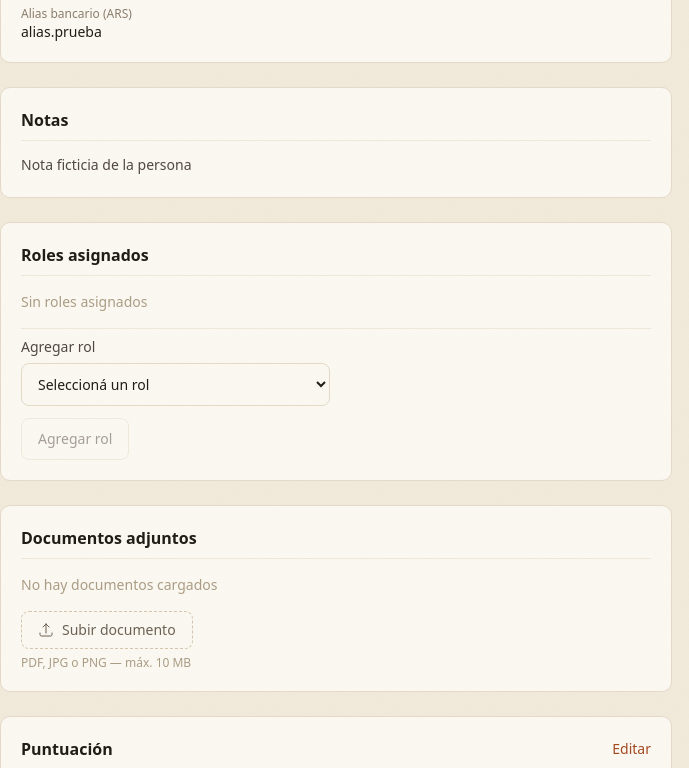
Test: PersonDetailPage › agrega un rol de propiedad
The image size is (689, 768).
(page scrolled)
Check: the button "Agregar rol" is disabled, box [21, 418, 129, 460]
Select "Propietario" in the dropdown labelled "Agregar rol" at [176, 384], box [21, 363, 330, 406]
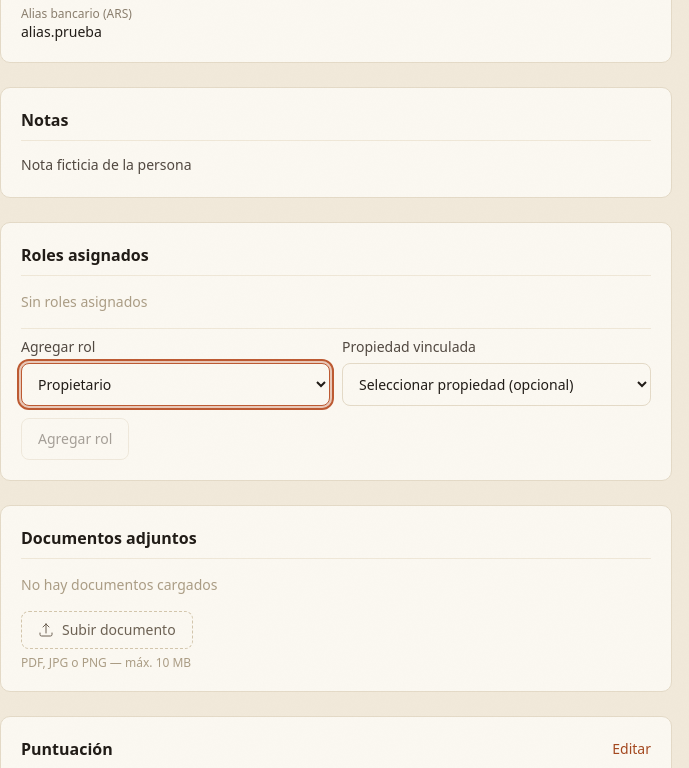
Select "Depto de prueba — Calle Falsa" in the dropdown labelled "Propiedad vinculada" at [496, 384], box [342, 363, 651, 406]
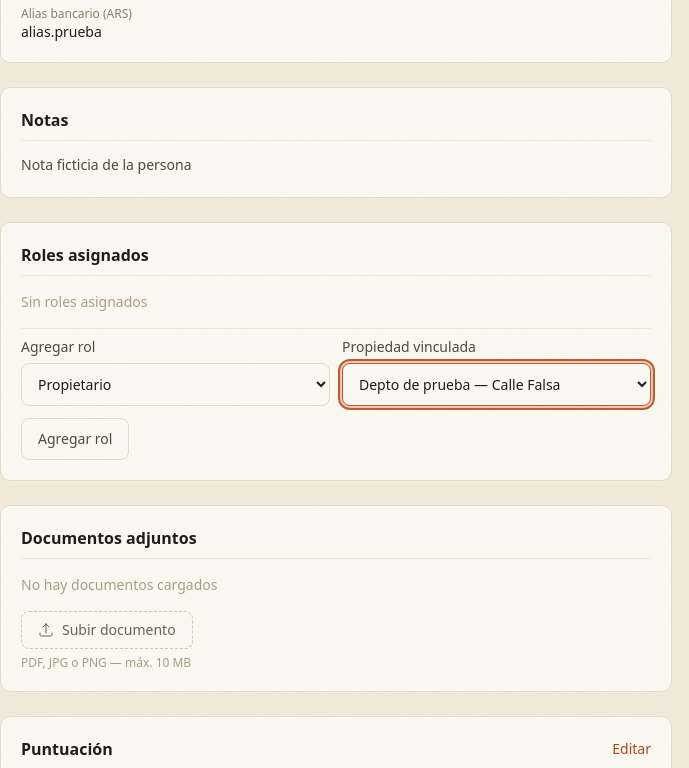
Click the button "Agregar rol".
click(75, 439)  # box [21, 418, 129, 460]
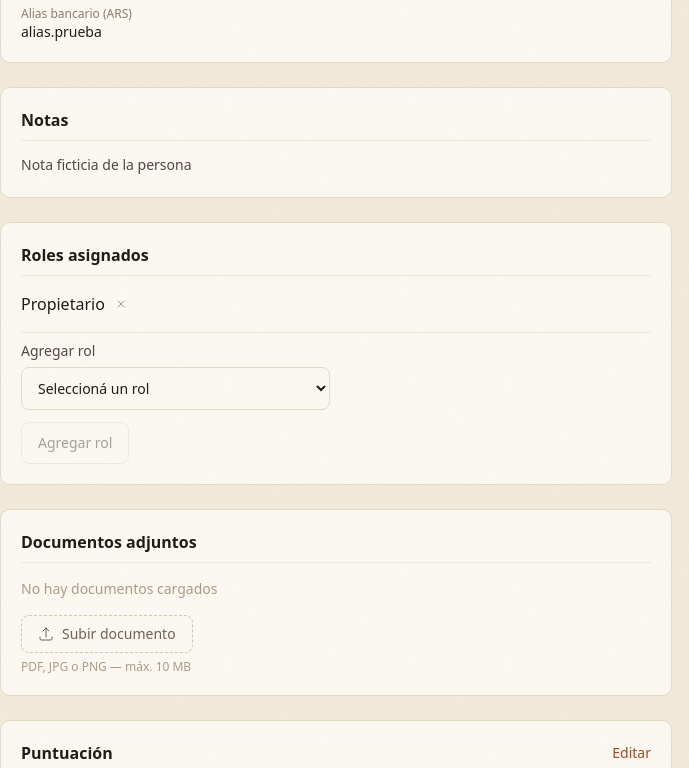
Check: the text "Sin roles asignados" is gone
